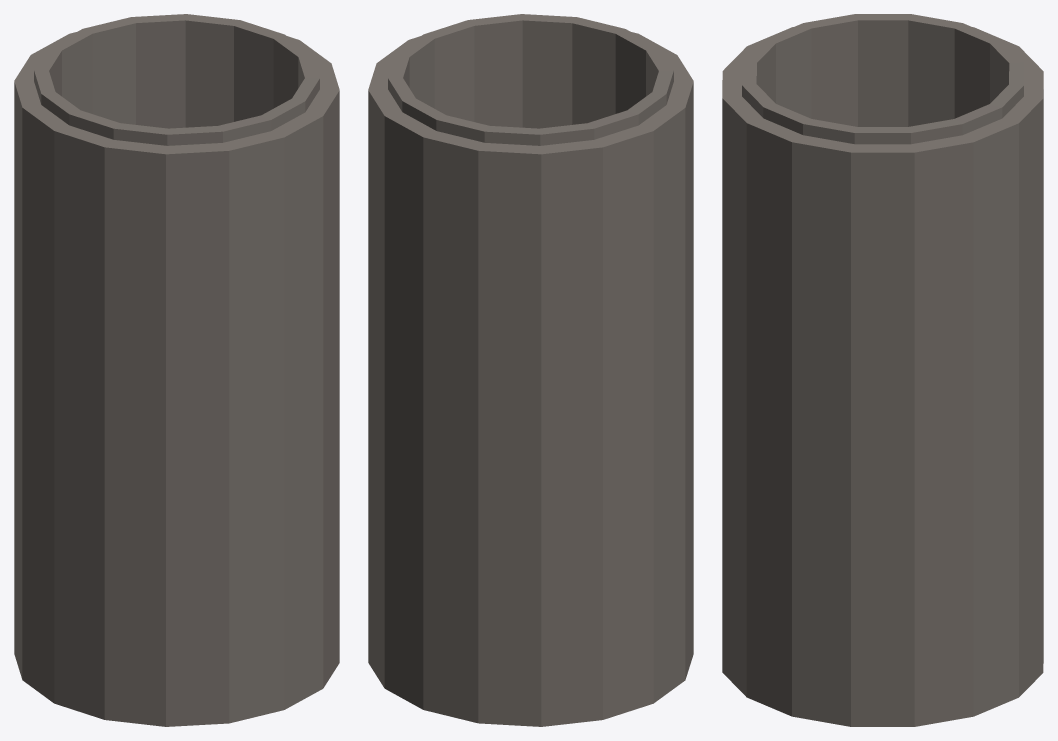
Rendered from Concrete_Pipe_Big.fbx.
3 renders of one model, left to right at view 1: azimuth 30°, elevation 25°; view 2: azimuth 150°, elevation 25°; view 3: azimuth 270°, elevation 25°, orthographic.
Parts seen in each view (by area): view 1: Concrete_Pipe_Big; view 2: Concrete_Pipe_Big; view 3: Concrete_Pipe_Big.
Part boxes in pixels (x1,y1,x2,y2): Concrete_Pipe_Big: (14, 14, 339, 726); Concrete_Pipe_Big: (368, 14, 693, 726); Concrete_Pipe_Big: (722, 14, 1043, 726).
Size of the model in its own units: 2.3 by 4.63 by 2.3.
